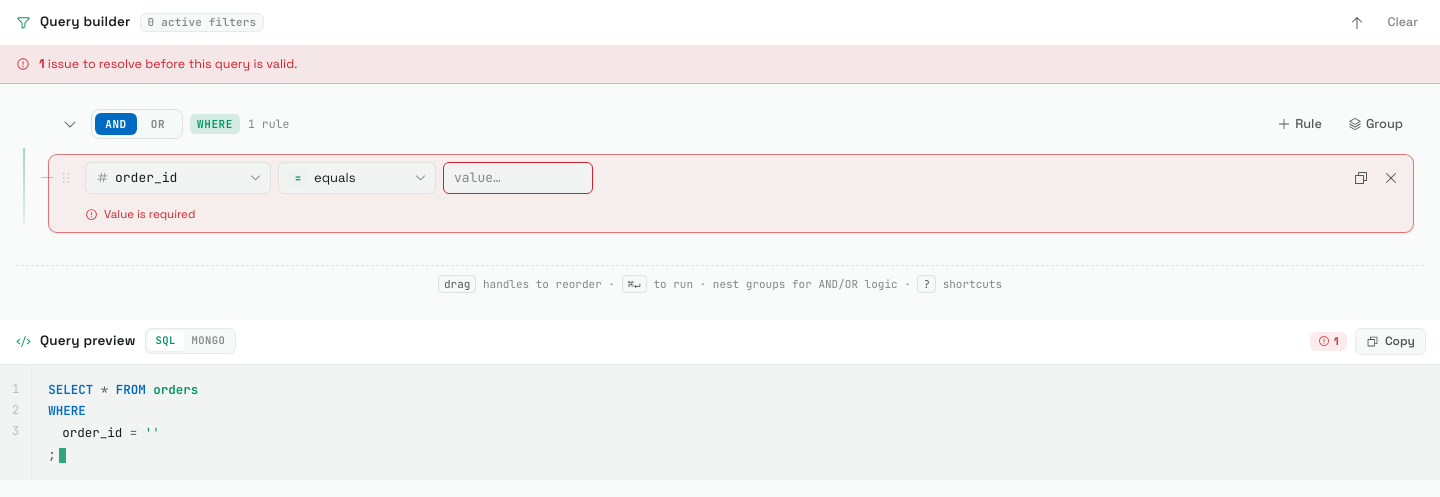
Test case: Live query preview › updates the generated SQL as a rule value changes
This screenshot has width=1440, height=497.
In the field with placeholder "value…": (518, 178) [443, 162, 593, 194], type "ORD-42"
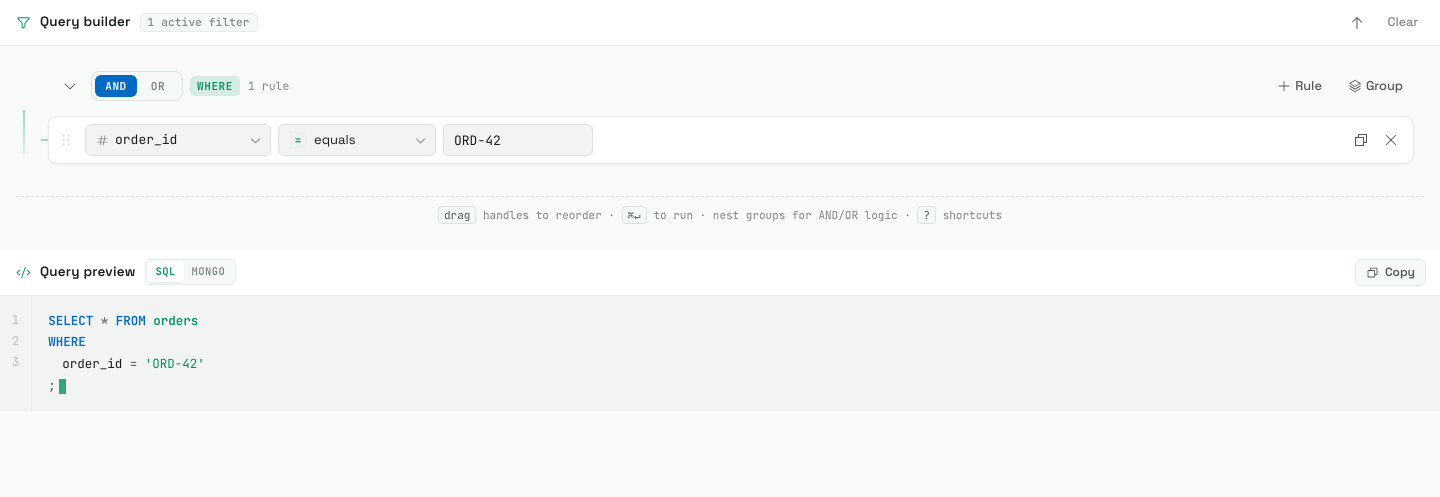
Now the element showing "SELECT * FROM orders WHERE order_id = 'ORD-42' ;" is shown, box [48, 312, 205, 394]
